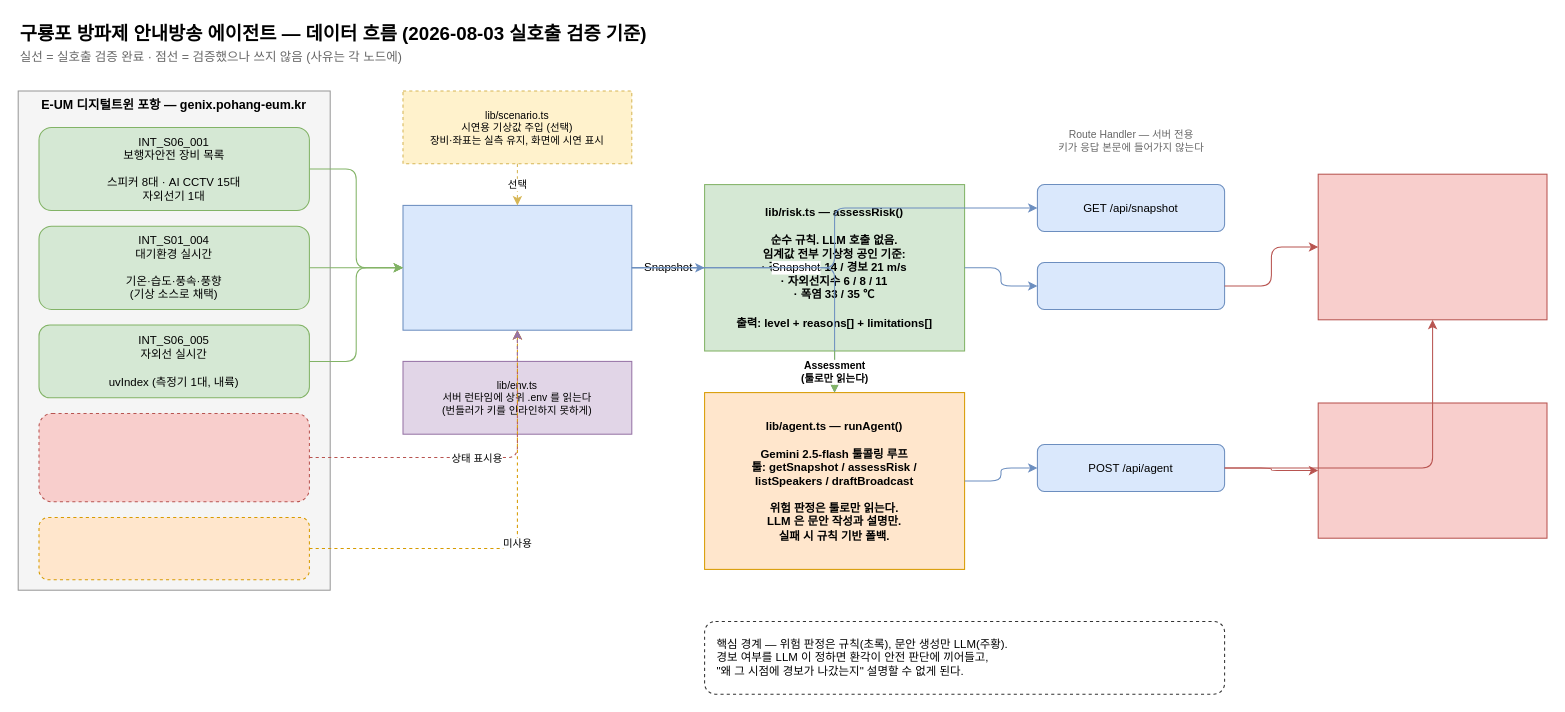
This 1565x712 diagram has some shape labels left out. The shapes that lost their labels are listed below. From the top down, each one's box as (x1, y1, x2, y2) in pixels, then its label:
(1317, 173, 1547, 320): /monitor 지자체 관제 화면 지도(스피커·CCTV·센서) 위험 등급 + 근거 방송 권고 카드 판정 한계 노출
(402, 204, 632, 330): lib/eum.ts snapshot() serviceKey 는 인코딩하지 않고 원문 그대로 붙인다 (이중 인코딩 시 401)
(1036, 262, 1225, 309): GET /api/assess
(38, 412, 309, 502): INT_S06_006 이상행동 발생수 제외 — 10개월치 검출 0건, date 파라미터 무시됨. 검출 미가동으로 판단. 화면에는 상태만 표시.
(1317, 402, 1547, 538): / 사용자 화면 자연어 질의 판정 근거 + 방송 문안 (한국어 · 영어)
(38, 516, 309, 580): INT_S03_019 기상 이력 보류 — 날짜별 구멍(500), windir 매핑 의심
